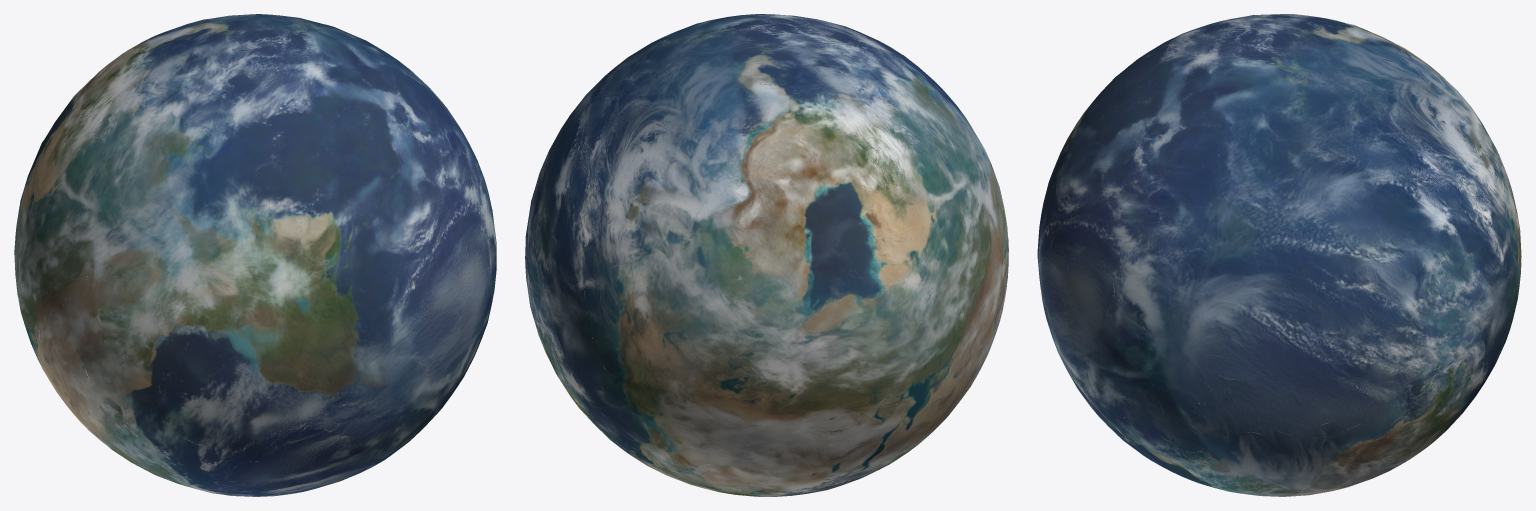
Rendered from Earth.glb.
The picture shows the model from 3 angles, left to right: view 1: azimuth 30°, elevation 25°; view 2: azimuth 150°, elevation 25°; view 3: azimuth 270°, elevation 25°; orthographic projection.
Visible parts, largest first — view 1: Mesh_0.004; view 2: Mesh_0.004; view 3: Mesh_0.004.
Part boxes in pixels (x1,y1,x2,y2): Mesh_0.004: [14, 14, 496, 496]; Mesh_0.004: [525, 14, 1008, 496]; Mesh_0.004: [1037, 14, 1521, 496].
Bounding box in the file's own units: 2.01 × 2 × 2.01.
1 material, 1 textured.
